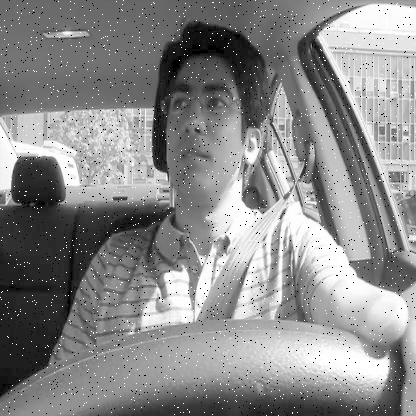seatbelt: (134, 14, 320, 416)
